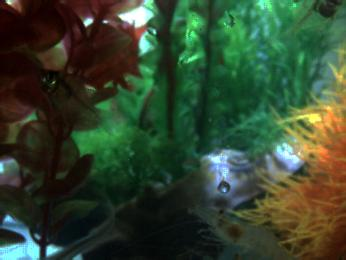X-ray fish: (36, 68, 118, 133), (278, 1, 346, 44)
glassfish: (26, 184, 119, 260)
siberian prawn: (188, 202, 297, 260)
